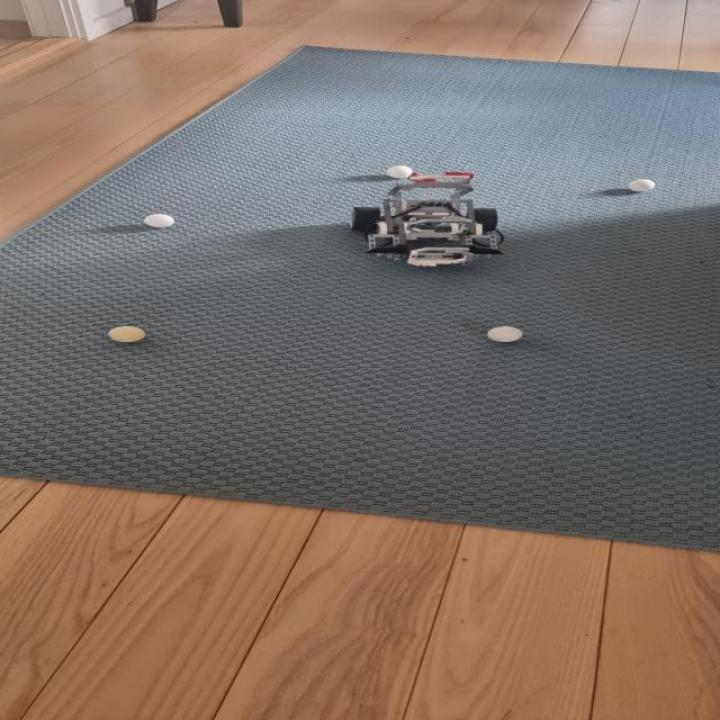robot: (349, 172, 505, 267)
white: (486, 326, 522, 342), (108, 326, 144, 342), (145, 214, 175, 227), (629, 179, 656, 192), (387, 165, 413, 178)
